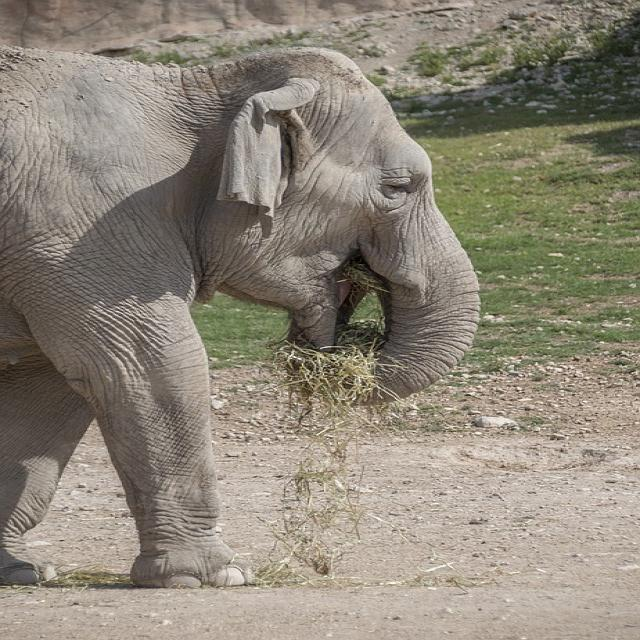elephant: (2, 48, 478, 587)
